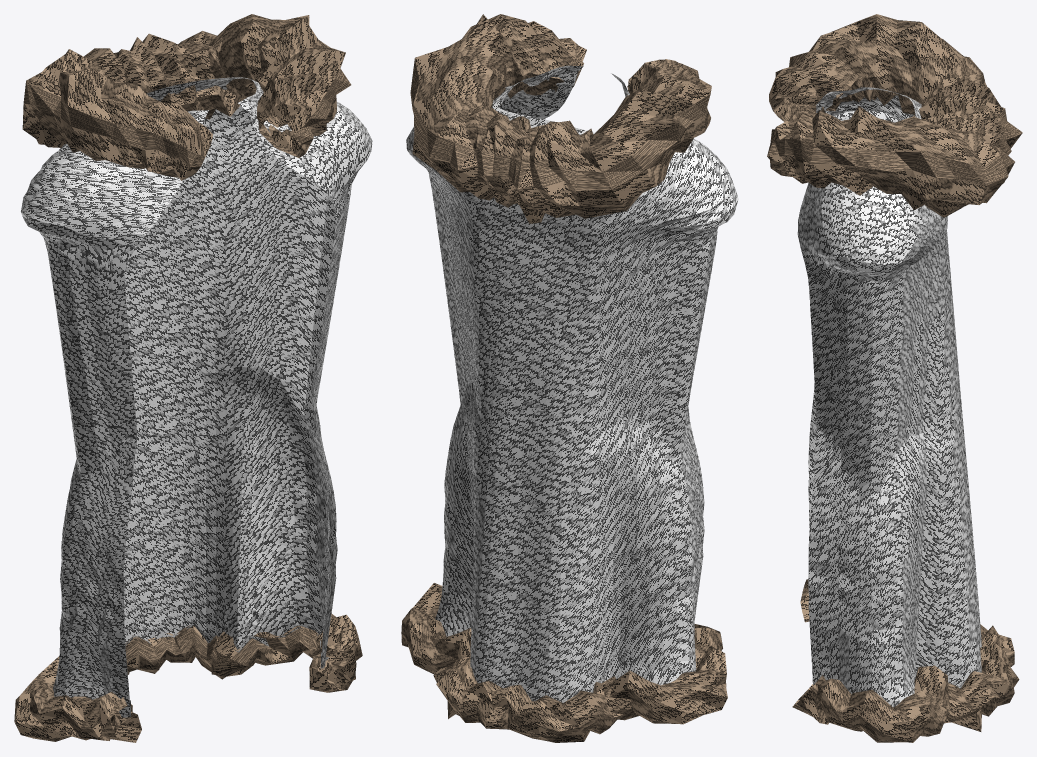
The model's file is ewb_cape_fur.glb.
3 renders of one model, left to right at view 1: azimuth 30°, elevation 25°; view 2: azimuth 150°, elevation 25°; view 3: azimuth 270°, elevation 25°, orthographic. The views are drawn at different scales.
Visible parts, largest first — view 1: ewb_cape_fur; view 2: ewb_cape_fur; view 3: ewb_cape_fur.
Part boxes in pixels (x1,y1,x2,y2): ewb_cape_fur: (14,14,372,742); ewb_cape_fur: (401,14,738,742); ewb_cape_fur: (767,14,1022,742).
Size of the model in its own units: 0.6457 by 1.25 by 0.4522.
Materials: 2 (2 with a texture image).
